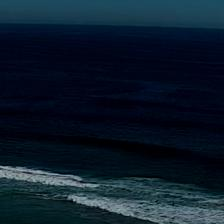surfer: (187, 187, 193, 190), (201, 181, 205, 184)
